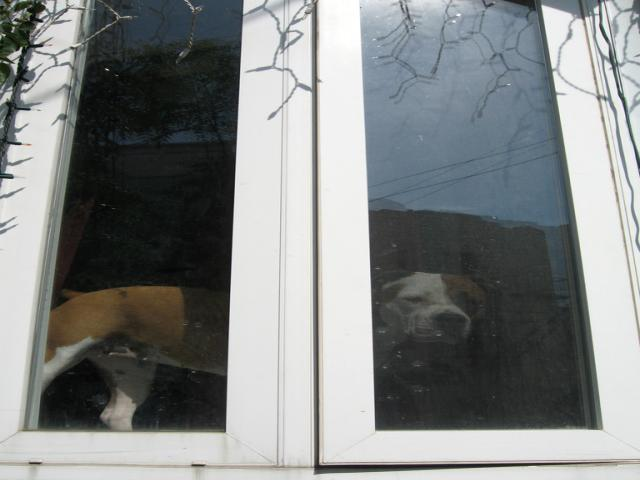Dog: (38, 270, 504, 432)
